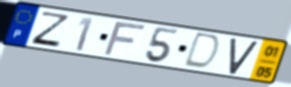1: (77, 16, 96, 53)
5: (143, 25, 180, 64)
D: (180, 31, 223, 72)
F: (100, 21, 149, 57)
V: (228, 37, 261, 76)
Z: (28, 10, 72, 49)
